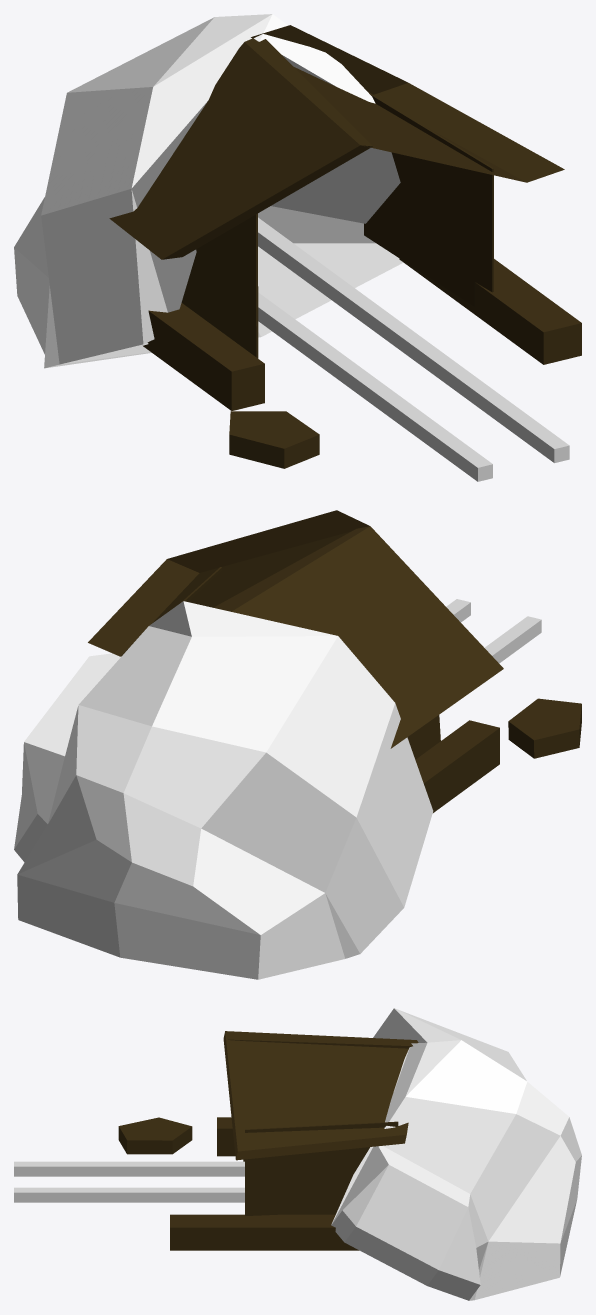
The model's file is mine.glb.
3 views of the same model, one above another, from view 1: azimuth 30°, elevation 25°; view 2: azimuth 150°, elevation 25°; view 3: azimuth 270°, elevation 25° (orthographic). The views are drawn at different scales.
Parts seen in each view (by area): view 1: Rock_5, Cube.003, Cube, Cube.004, Cube.011, Cube.009, Cube.002, Cube.007, Cube.008, Cylinder.002; view 2: Rock_5, Cube.003, Cube.004, Cube.009, Cylinder.002, Cube.007, Cube.002; view 3: Rock_5, Cube.004, Cube, Cube.008, Cube.007, Cube.011, Cylinder.002, Cube.003, Cube.009.
Boxes of the visible parts, <box> form: Rock_5: <box>14,14,403,368</box>; Cube.003: <box>109,38,372,259</box>; Cube: <box>364,91,493,306</box>; Cube.004: <box>251,25,564,182</box>; Cube.011: <box>258,217,569,463</box>; Cube.009: <box>143,303,264,410</box>; Cube.002: <box>181,213,258,358</box>; Cube.007: <box>258,292,492,481</box>; Cube.008: <box>399,258,581,364</box>; Cylinder.002: <box>229,411,319,468</box>; Rock_5: <box>14,601,433,979</box>; Cube.003: <box>213,526,503,748</box>; Cube.004: <box>88,510,369,656</box>; Cube.009: <box>415,720,499,812</box>; Cylinder.002: <box>508,698,581,758</box>; Cube.007: <box>484,616,541,663</box>; Cube.002: <box>407,715,440,759</box>; Rock_5: <box>331,1008,581,1300</box>; Cube.004: <box>223,1031,408,1160</box>; Cube: <box>245,1121,398,1215</box>; Cube.008: <box>170,1214,359,1250</box>; Cube.007: <box>14,1161,244,1176</box>; Cube.011: <box>14,1187,244,1202</box>; Cylinder.002: <box>118,1117,192,1154</box>; Cube.003: <box>225,1031,418,1048</box>; Cube.009: <box>217,1117,235,1156</box>.
Size of what is drawn, in the model's own units: 9.52 by 7.31 by 16.68.
